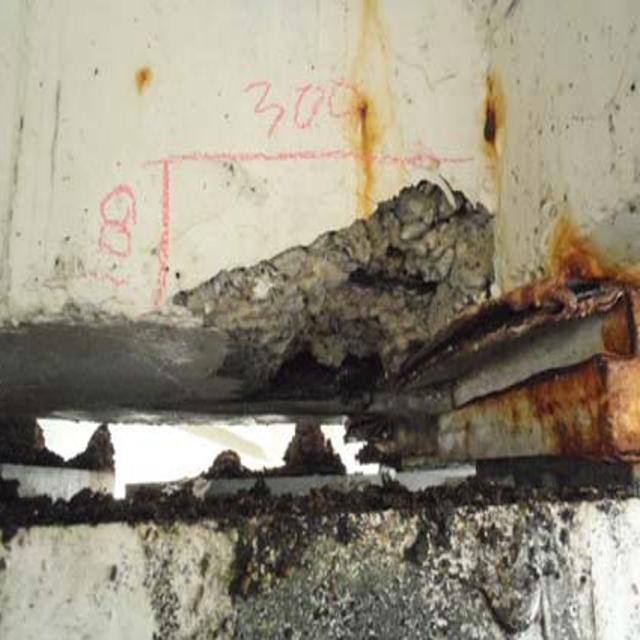spalling: (152, 153, 478, 403)
